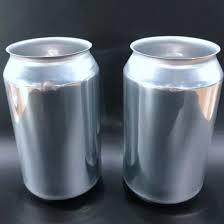can: (2, 35, 112, 205), (121, 33, 222, 211)
